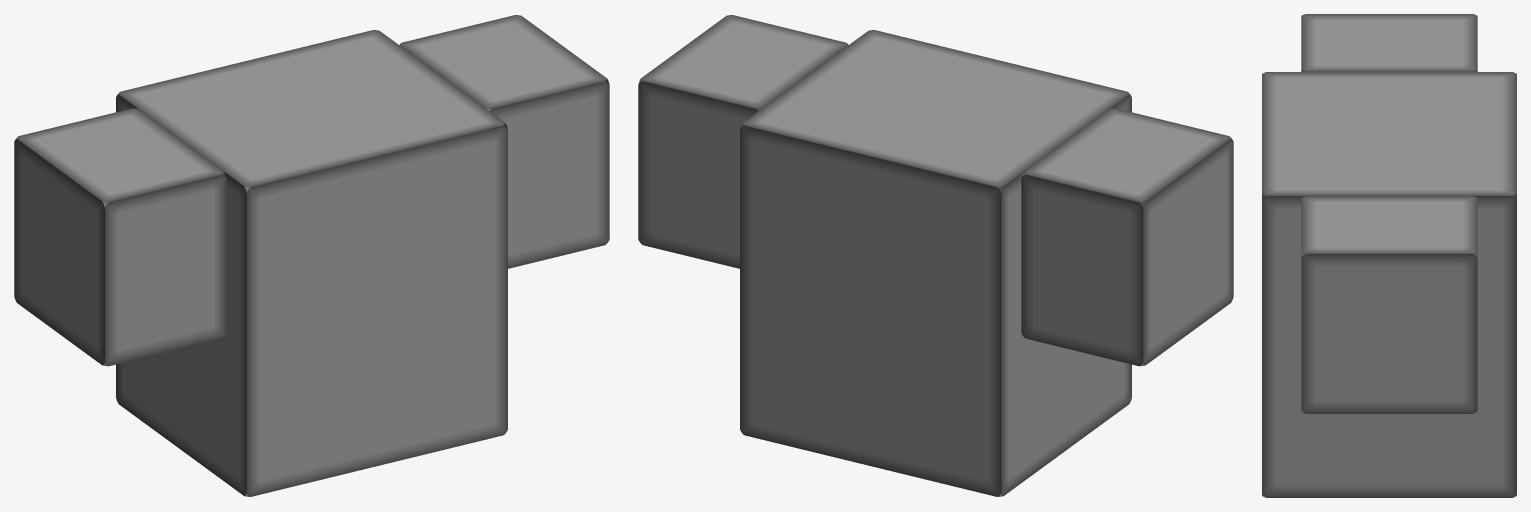
The model's file is Chest_Armour.fbx.
3 views of the same model, side by side, from view 1: azimuth 30°, elevation 25°; view 2: azimuth 150°, elevation 25°; view 3: azimuth 270°, elevation 25° (orthographic). The views are drawn at different scales.
Parts seen in each view (by area): view 1: cube_2, cube, cube_1; view 2: cube_2, cube, cube_1; view 3: cube_2, cube_1, cube.
Boxes of the visible parts, <box> form: cube_2: <box>116,30,507,496</box>; cube: <box>14,108,226,366</box>; cube_1: <box>399,15,609,268</box>; cube_2: <box>740,30,1131,496</box>; cube: <box>1021,108,1233,366</box>; cube_1: <box>638,15,848,268</box>; cube_2: <box>1262,72,1516,497</box>; cube_1: <box>1301,196,1477,413</box>; cube: <box>1301,14,1477,71</box>.
Bounding box in the file's own units: 181 × 106 × 81.25.
Materials: 1 (1 with a texture image).
